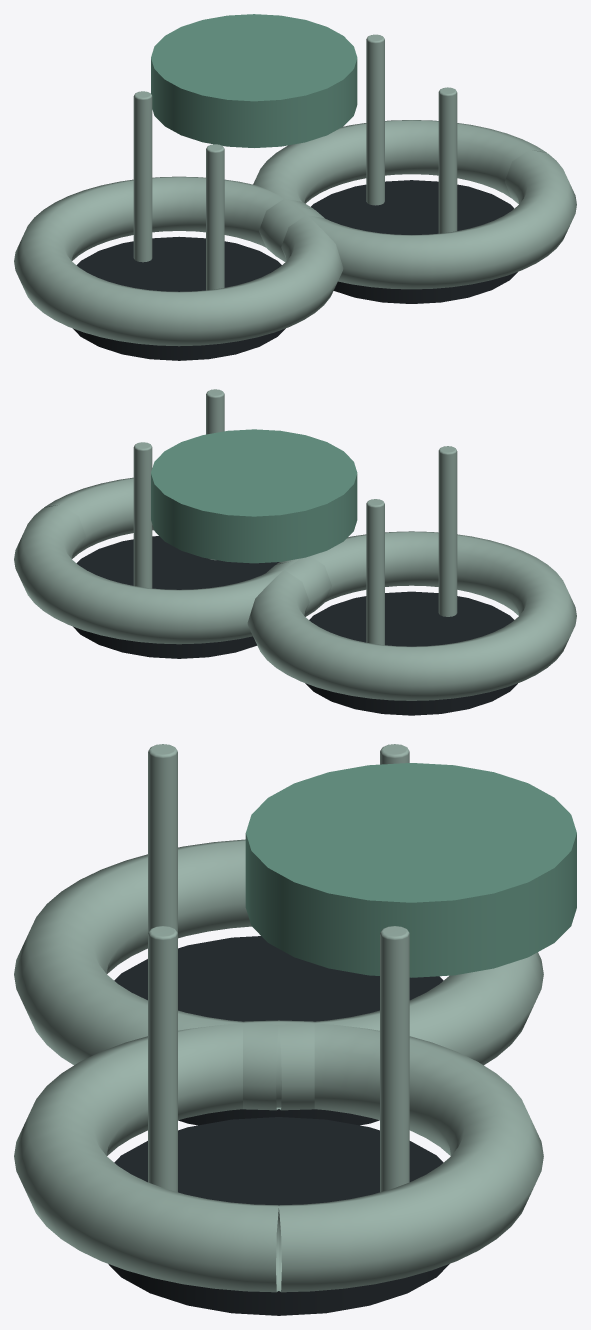
3 views of the same model, one above another, from view 1: azimuth 30°, elevation 25°; view 2: azimuth 150°, elevation 25°; view 3: azimuth 270°, elevation 25° (orthographic). The views are drawn at different scales.
Visible parts, largest first — view 1: Open construction bay ring, Open construction bay ring.001, Raised central construction console, Construction bay dark well, Construction bay dark well.001, Construction bay support.001, Construction bay support.003, Construction bay support.002, Construction bay support; view 2: Open construction bay ring, Raised central construction console, Open construction bay ring.001, Construction bay dark well, Construction bay dark well.001, Construction bay support, Construction bay support.003, Construction bay support.001, Construction bay support.002; view 3: Open construction bay ring.001, Raised central construction console, Open construction bay ring, Construction bay dark well.001, Construction bay dark well, Construction bay support.002, Construction bay support.003, Construction bay support.
Boxes of the visible parts, x1,y1,x2,y2 form: Open construction bay ring: [14, 176, 343, 346]; Open construction bay ring.001: [253, 120, 576, 289]; Raised central construction console: [151, 14, 357, 147]; Construction bay dark well: [73, 236, 285, 360]; Construction bay dark well.001: [311, 180, 517, 303]; Construction bay support.001: [133, 91, 152, 262]; Construction bay support.003: [366, 34, 384, 205]; Construction bay support.002: [438, 87, 457, 233]; Construction bay support: [206, 144, 224, 290]; Open construction bay ring: [247, 531, 576, 700]; Raised central construction console: [151, 429, 357, 563]; Open construction bay ring.001: [14, 477, 331, 644]; Construction bay dark well: [305, 591, 517, 715]; Construction bay dark well.001: [73, 536, 279, 658]; Construction bay support: [438, 446, 457, 616]; Construction bay support.003: [133, 442, 152, 588]; Construction bay support.001: [366, 499, 384, 645]; Construction bay support.002: [206, 389, 224, 560]; Open construction bay ring.001: [14, 1020, 543, 1292]; Raised central construction console: [245, 763, 576, 977]; Open construction bay ring: [14, 839, 543, 1110]; Construction bay dark well.001: [108, 1117, 449, 1315]; Construction bay dark well: [114, 936, 443, 1125]; Construction bay support.002: [148, 926, 177, 1192]; Construction bay support.003: [380, 926, 409, 1192]; Construction bay support: [148, 744, 177, 933].
Bounding box in the file's own units: 2.9 × 1.05 × 1.7.
